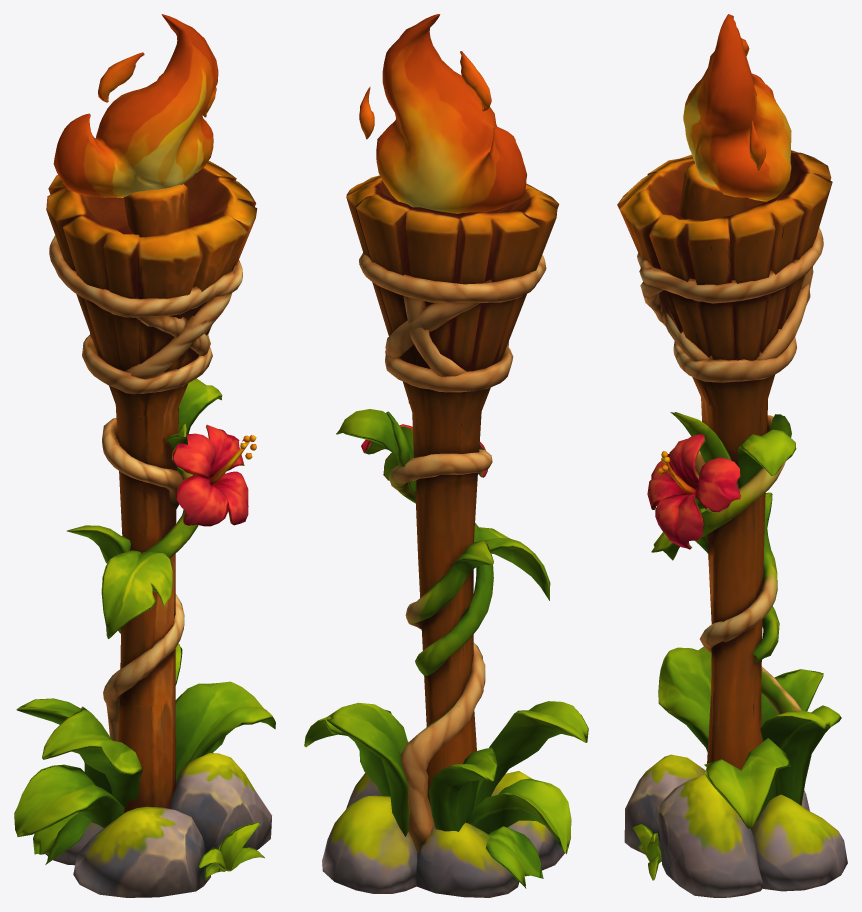
File: antorcha.fbx
3 renders of one model, left to right at view 1: azimuth 30°, elevation 25°; view 2: azimuth 150°, elevation 25°; view 3: azimuth 270°, elevation 25°, orthographic.
Visible parts, largest first — view 1: geometry_0; view 2: geometry_0; view 3: geometry_0.
Part boxes in pixels (x1,y1,x2,y2): geometry_0: (14, 14, 275, 897); geometry_0: (304, 14, 588, 897); geometry_0: (617, 14, 847, 897).
Size of the model in its own units: 30.86 by 95.26 by 23.78.
1 material, 1 textured.
